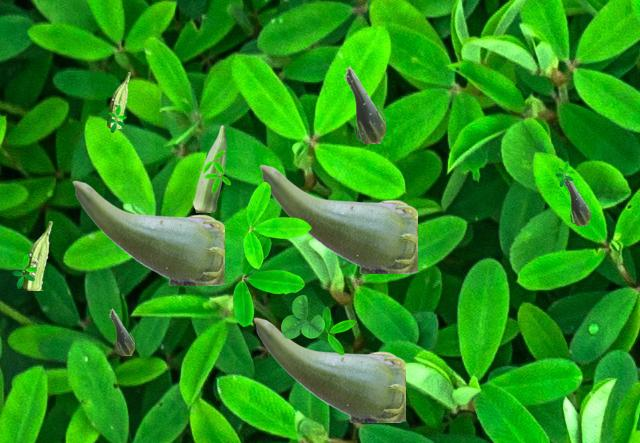okra: (259, 164, 416, 272), (253, 317, 404, 421), (72, 180, 223, 284), (344, 65, 384, 142), (193, 125, 225, 211), (23, 221, 51, 289), (107, 72, 129, 127), (109, 308, 133, 354), (565, 180, 589, 224)
